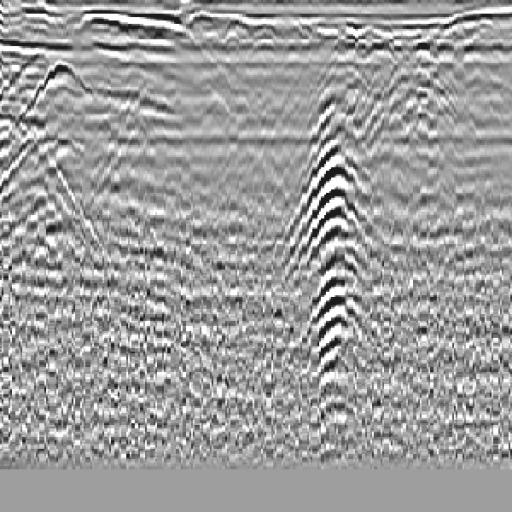non-metallic: (1, 46, 158, 248), (297, 72, 376, 415)
